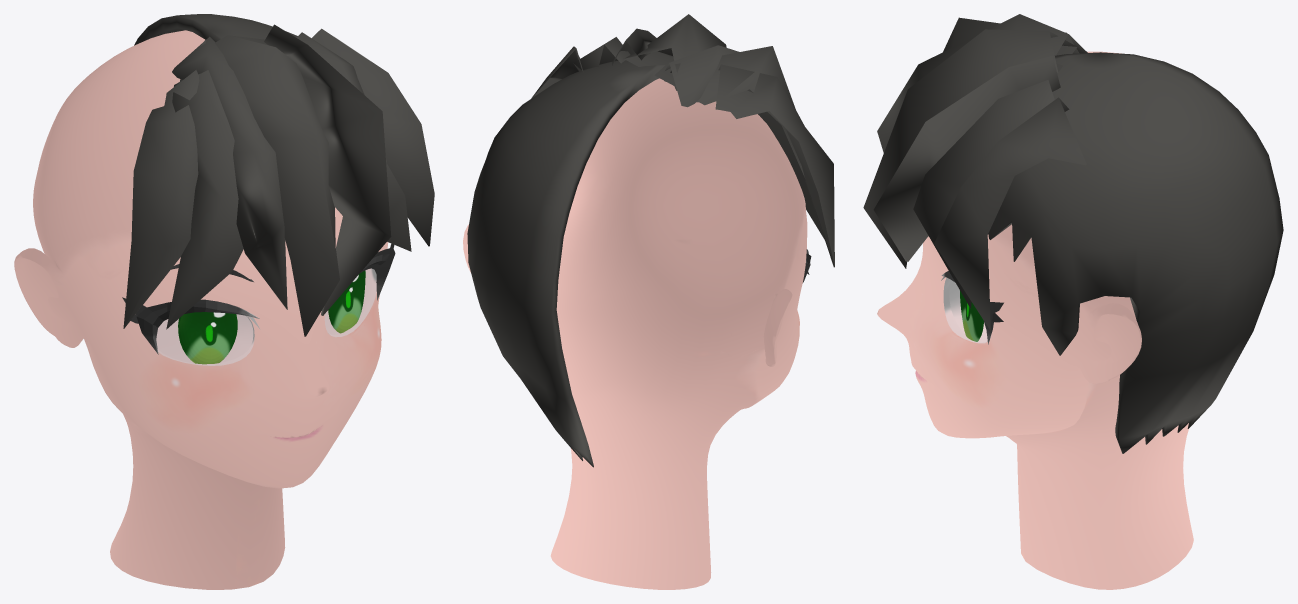
File: open rab  project.glb
The picture shows the model from 3 angles, left to right: view 1: azimuth 30°, elevation 25°; view 2: azimuth 150°, elevation 25°; view 3: azimuth 270°, elevation 25°; orthographic projection. The views are drawn at different scales.
Visible parts, largest first — view 1: 円, NURBSパス, 球; view 2: 円, 球, NURBSパス; view 3: 球, 円, NURBSパス.
Boxes of the visible parts, x1=… form: 円: x1=14, y1=30, x2=395, y2=589; NURBSパス: x1=123, y1=24, x2=434, y2=336; 球: x1=134, y1=14, x2=297, y2=45; 円: x1=463, y1=78, x2=811, y2=589; 球: x1=467, y1=60, x2=664, y2=467; NURBSパス: x1=531, y1=14, x2=834, y2=267; 球: x1=988, y1=52, x2=1283, y2=453; 円: x1=877, y1=51, x2=1193, y2=589; NURBSパス: x1=863, y1=14, x2=1087, y2=330.
Size of the model in its own units: 10.9 by 16.47 by 11.84.
Materials: 5 (3 with a texture image).
